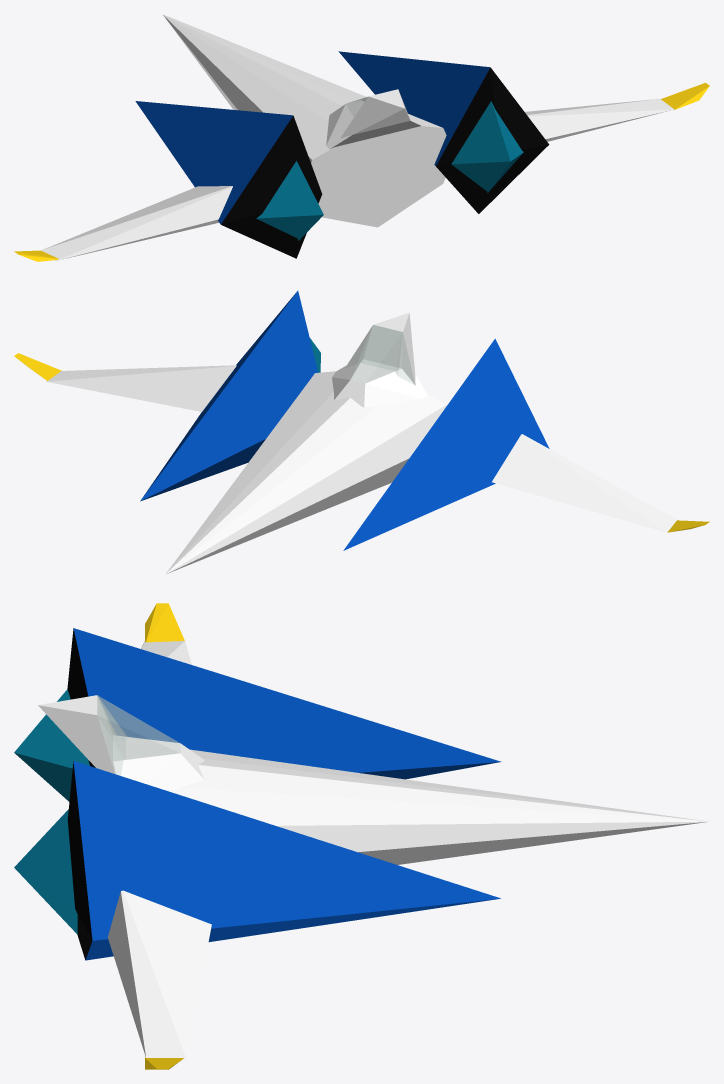
File: arwing_low.obj
3 views of the same model, one above another, from view 1: azimuth 30°, elevation 25°; view 2: azimuth 150°, elevation 25°; view 3: azimuth 270°, elevation 25° (orthographic). The views are drawn at different scales.
Parts seen in each view (by area): view 1: group1463920572, group880859104, group1121847136, group806964330, group1780649951, group956010490, group1080070685, group464688159, group335070153, group1385402744, group487296091, group478504828; view 2: group1463920572, group880859104, group1121847136, group806964330, group464688159, group487296091, group1385402744, group1597662914, group1125755829, group478504828; view 3: group1121847136, group1463920572, group880859104, group464688159, group487296091, group1080070685, group1385402744, group335070153, group1125755829, group1780649951, group1597662914, group1131677522 (+2 smaller).
Boxes of the visible parts, x1,y1,x2,y2 form: group1463920572: [162, 14, 446, 227]; group880859104: [135, 101, 292, 224]; group1121847136: [338, 51, 490, 165]; group806964330: [41, 186, 232, 260]; group1780649951: [436, 67, 549, 213]; group956010490: [221, 115, 322, 258]; group1080070685: [451, 101, 523, 192]; group464688159: [525, 98, 674, 141]; group335070153: [256, 161, 323, 240]; group1385402744: [340, 89, 410, 138]; group487296091: [326, 100, 420, 149]; group478504828: [661, 82, 709, 109]; group1463920572: [165, 371, 446, 574]; group880859104: [343, 338, 549, 550]; group1121847136: [140, 291, 318, 501]; group806964330: [492, 434, 677, 532]; group464688159: [46, 365, 236, 411]; group487296091: [332, 359, 427, 407]; group1385402744: [345, 312, 415, 385]; group1597662914: [345, 325, 415, 385]; group1125755829: [350, 325, 402, 383]; group478504828: [14, 353, 61, 380]; group1121847136: [73, 761, 500, 960]; group1463920572: [168, 749, 708, 864]; group880859104: [73, 628, 501, 779]; group464688159: [107, 890, 211, 1058]; group487296091: [113, 735, 204, 790]; group1080070685: [14, 809, 77, 934]; group1385402744: [38, 695, 115, 774]; group335070153: [14, 689, 89, 801]; group1125755829: [97, 695, 180, 760]; group1780649951: [67, 761, 92, 959]; group1597662914: [97, 696, 126, 775]; group1131677522: [145, 603, 184, 642].
Size of the model in its own units: 0.9262 by 0.19 by 0.585.
